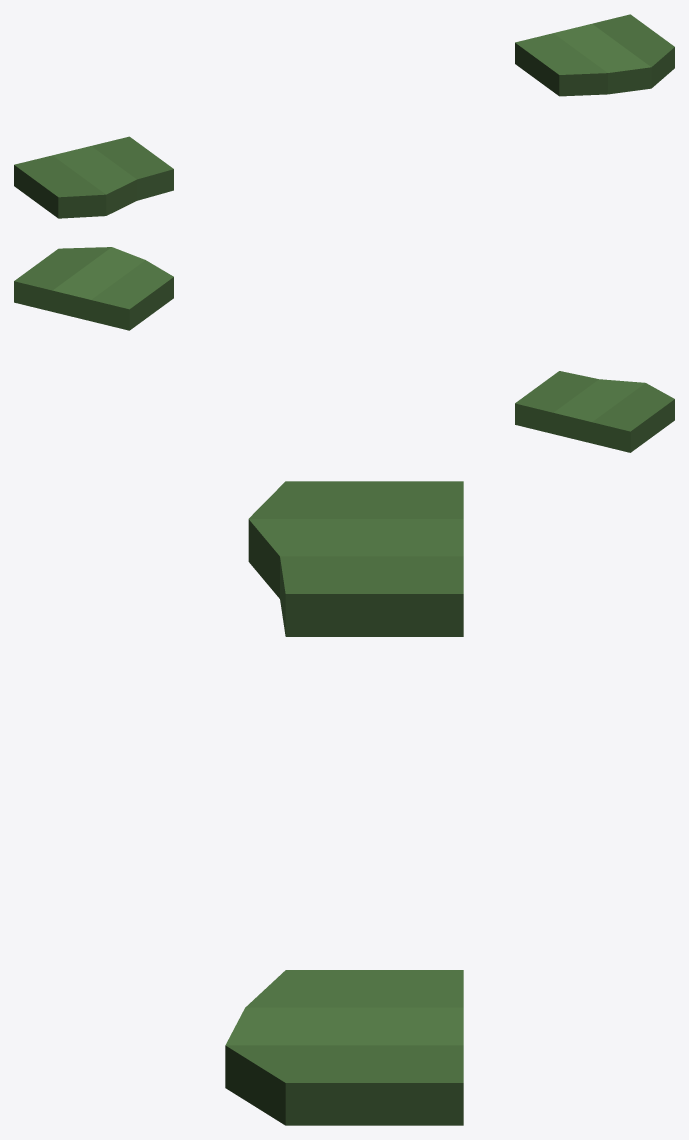
Rendered from edge_mouth_grass.glb.
3 views of the same model, one above another, from view 1: azimuth 30°, elevation 25°; view 2: azimuth 150°, elevation 25°; view 3: azimuth 270°, elevation 25° (orthographic). The views are drawn at different scales.
Parts seen in each view (by area): view 1: edge_mouth_grass; view 2: edge_mouth_grass; view 3: edge_mouth_grass.
Part boxes in pixels (<box>): edge_mouth_grass: <box>14,14,674,218</box>; edge_mouth_grass: <box>14,247,674,452</box>; edge_mouth_grass: <box>225,481,463,1125</box>.
Size of the model in its own units: 3.2 by 0.106 by 0.5353.
